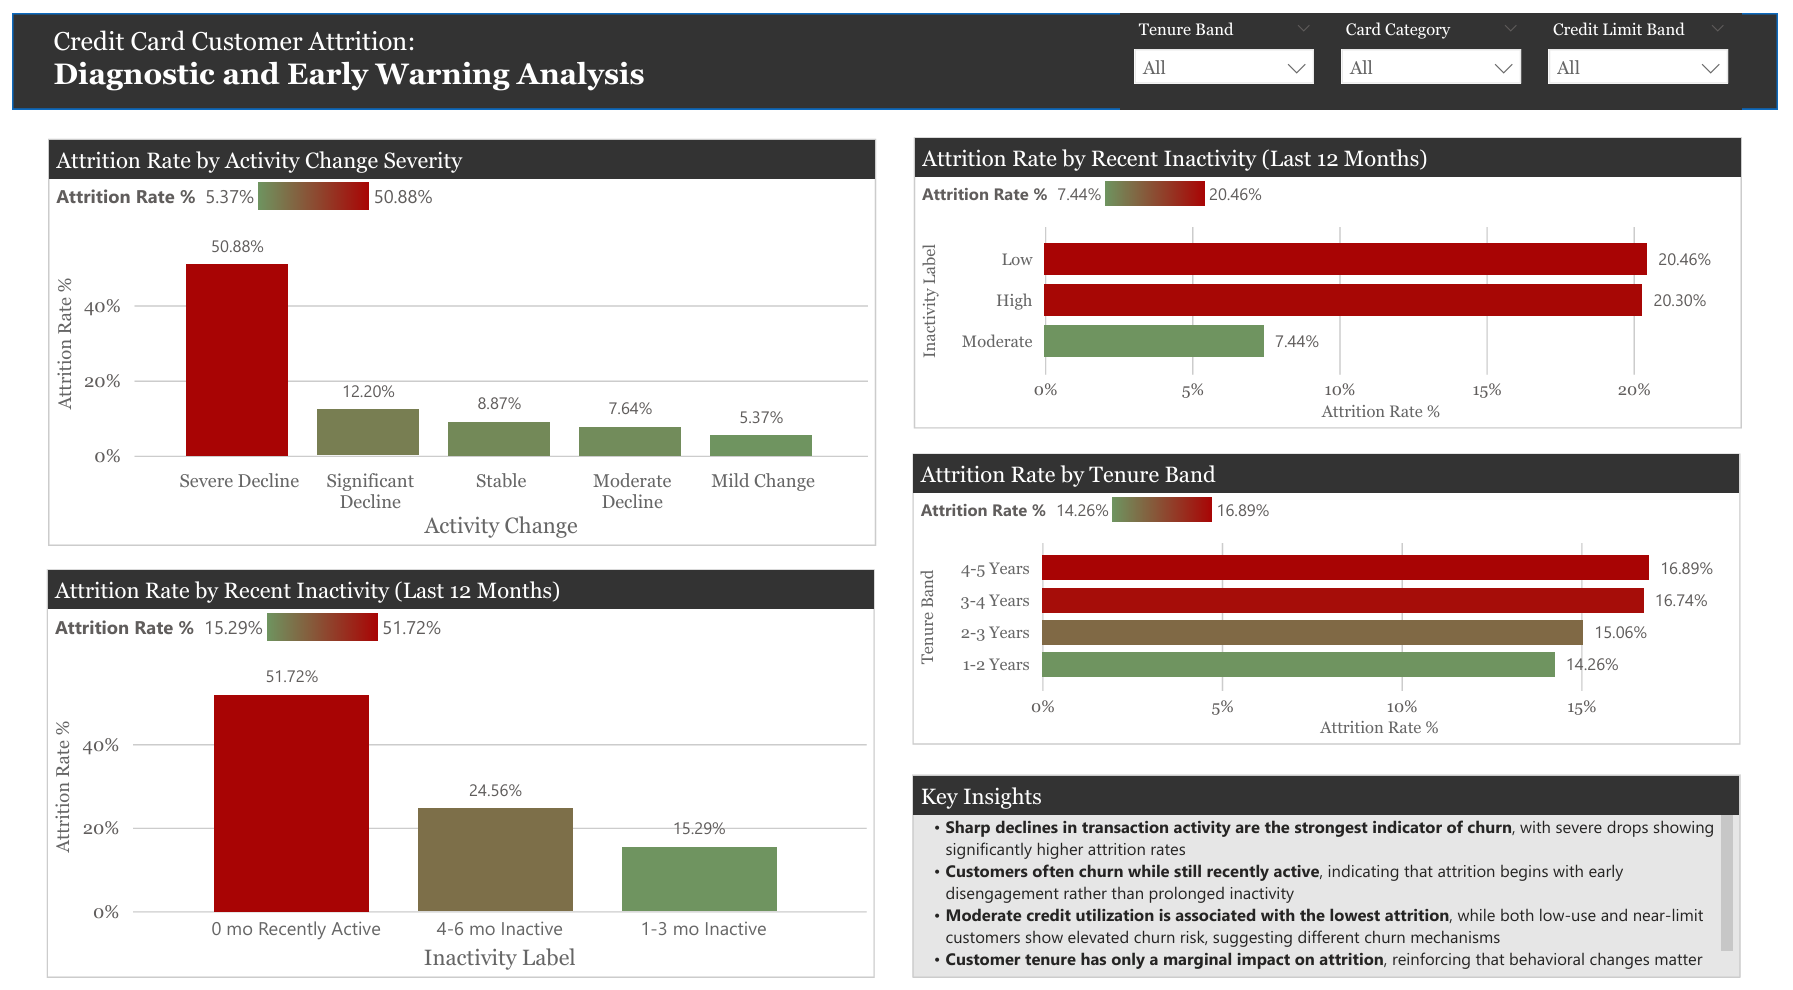

The dashboard page shown, as its layout file describes it:
{"tool":"powerbi","page":{"name":"Attrition Risk Drivers","canvas":[1280,720],"ordinal":1},"visuals":[{"type":"shape","box":[0,0,1279.5,69.7],"z":0},{"type":"slicer","fields":{"Values":["raw_data.Card_Category"]},"box":[953.9,0,149.9,69.7],"z":1000},{"type":"slicer","fields":{"Values":["raw_data.Tenure Band"]},"box":[804,0,149.9,69.7],"z":2000},{"type":"textbox","box":[25,4.5,460.3,60.6],"z":3000},{"type":"slicer","fields":{"Values":["raw_data.Credit Limit Band"]},"box":[1104,0,149.9,69.7],"z":4000},{"type":"textbox","title":"Key Insights","box":[652.9,552.4,600,146.5],"z":5000},{"type":"clusteredColumnChart","title":"Attrition Rate by Activity Change Severity","fields":{"Category":["raw_data.Activity Change Band"],"Y":["raw_data.Attrition Rate %"]},"box":[25.7,90.9,600,295],"z":6000},{"type":"clusteredColumnChart","title":"Attrition Rate by Recent Inactivity (Last 12 Months)","fields":{"Y":["raw_data.Attrition Rate %"],"Category":["raw_data.Inactivity Label"]},"box":[24.7,403.2,600,295.5],"z":7000},{"type":"clusteredBarChart","title":"Attrition Rate by Recent Inactivity (Last 12 Months)","fields":{"Category":["raw_data.Utilization Band"],"Y":["raw_data.Attrition Rate %"]},"box":[653.5,90.2,600,211],"z":8000},{"type":"clusteredBarChart","title":"Attrition Rate by Tenure Band","fields":{"Y":["raw_data.Attrition Rate %"],"Category":["raw_data.Tenure Band"]},"box":[652.9,319.4,600,211],"z":9000}]}

Visuals, with their boxes in screenshot pixels (x1, y1, x2, y2), scaled from the page's 1280x720 canvas onto the 1793x990 screenshot:
shape: bbox=(0, 0, 1792, 96)
slicer - raw_data.Card_Category: bbox=(1336, 0, 1546, 96)
slicer - raw_data.Tenure Band: bbox=(1126, 0, 1336, 96)
textbox: bbox=(35, 6, 680, 90)
slicer - raw_data.Credit Limit Band: bbox=(1546, 0, 1756, 96)
"Key Insights" textbox: bbox=(915, 760, 1755, 961)
"Attrition Rate by Activity Change Severity" clusteredColumnChart: bbox=(36, 125, 876, 531)
"Attrition Rate by Recent Inactivity (Last 12 Months)" clusteredColumnChart: bbox=(35, 554, 875, 961)
"Attrition Rate by Recent Inactivity (Last 12 Months)" clusteredBarChart: bbox=(915, 124, 1756, 414)
"Attrition Rate by Tenure Band" clusteredBarChart: bbox=(915, 439, 1755, 729)
